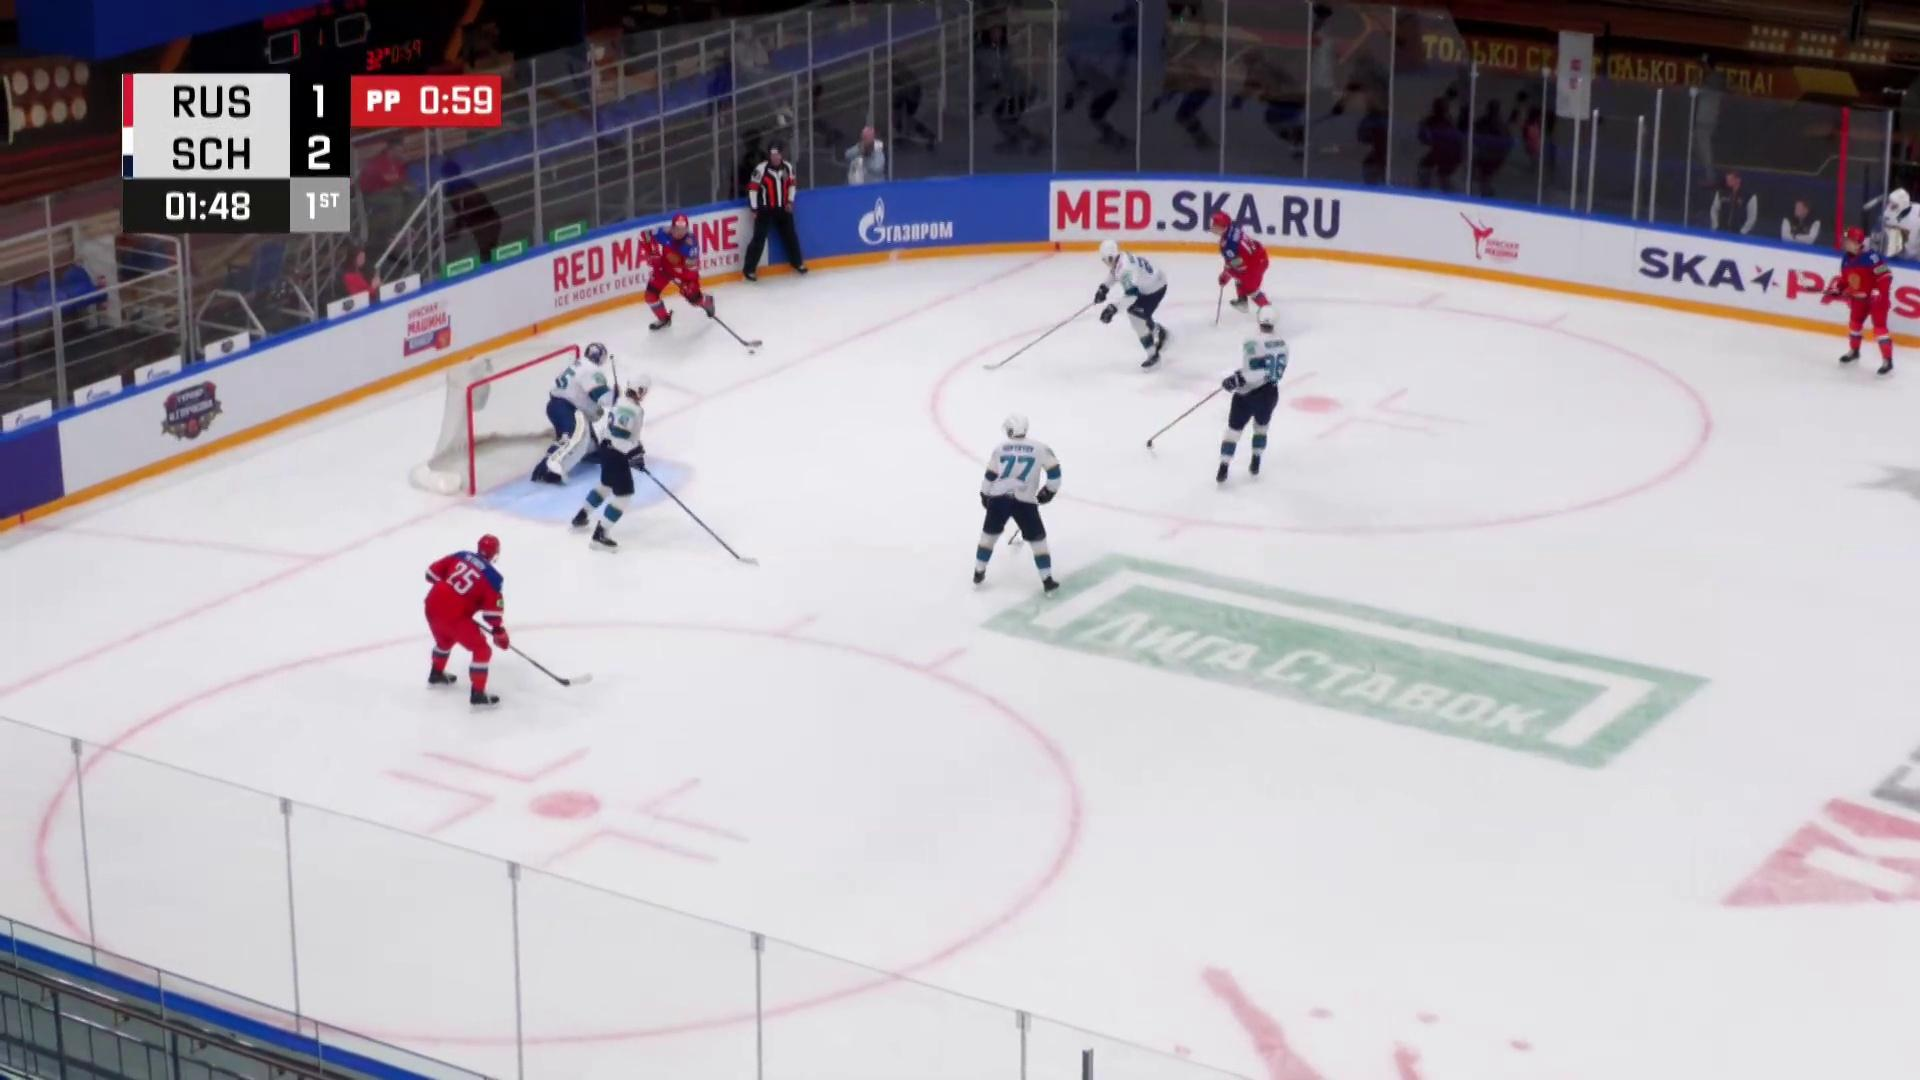ball: (748, 349, 756, 355)
